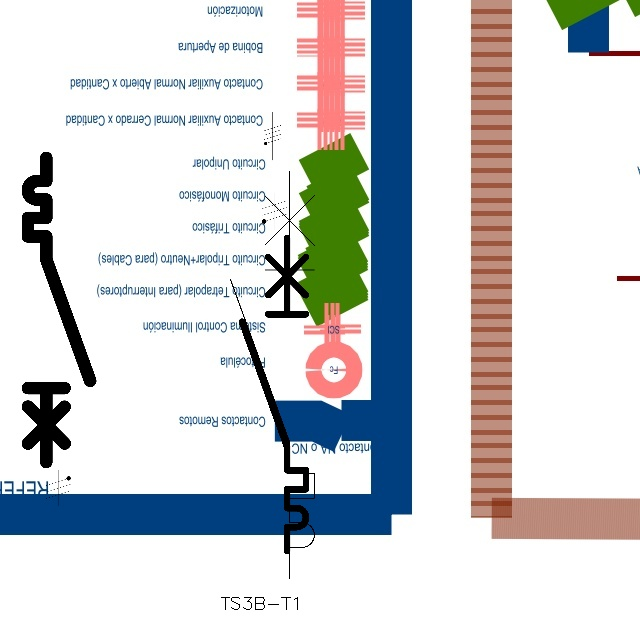interruptor_termomagnetico: (220, 160, 325, 588), (234, 230, 314, 558), (20, 150, 98, 470)
